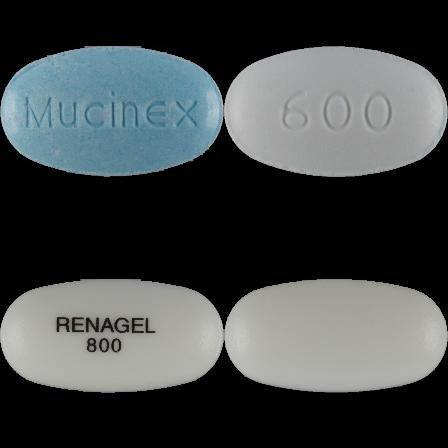17856-0008: (0, 0, 224, 224)
